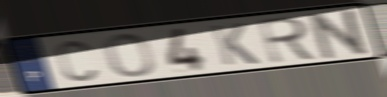4: (165, 26, 208, 73)
C: (54, 39, 99, 84)
K: (208, 21, 262, 67)
N: (307, 7, 373, 61)
O: (102, 32, 157, 79)
R: (255, 15, 321, 66)
